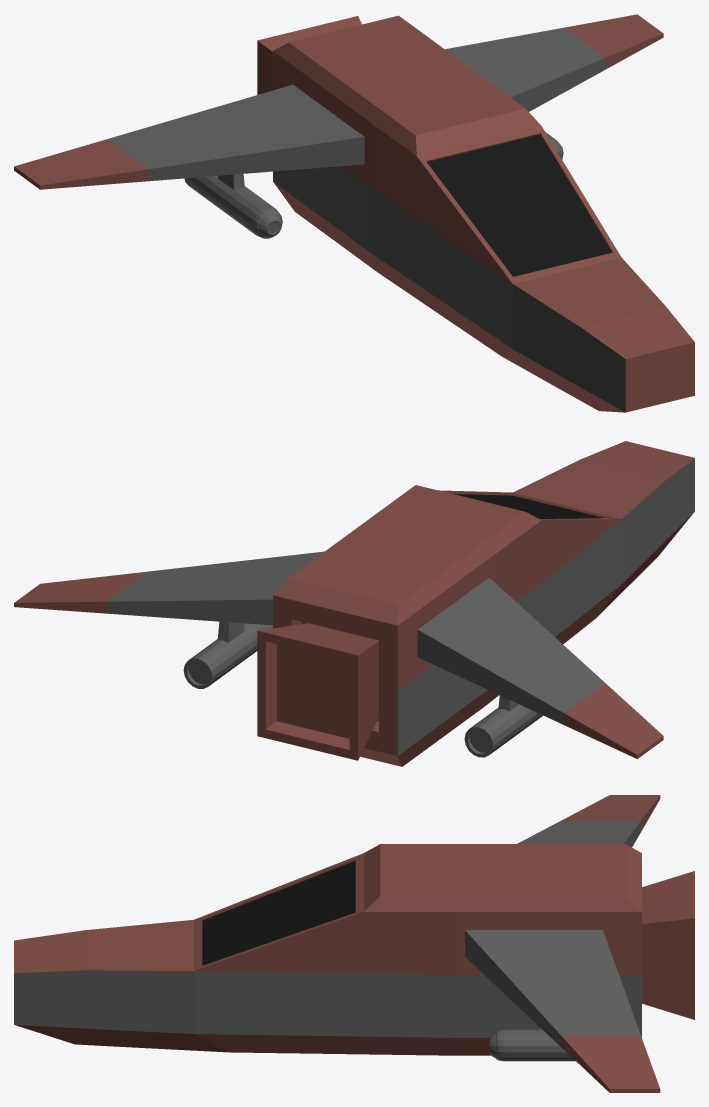
The model's file is spaceship444.gltf.
3 renders of one model, top to bottom at view 1: azimuth 30°, elevation 25°; view 2: azimuth 150°, elevation 25°; view 3: azimuth 270°, elevation 25°, orthographic. The views are drawn at different scales.
Visible parts, largest first — view 1: Cube, Cube.002, Cube.003, Cube.001, Cylinder; view 2: Cube, Cube.002, Cube.003, Cylinder, Cube.001; view 3: Cube, Cube.003, Cube.002, Cube.001, Cylinder.
Boxes of the visible parts, x1,y1,x2,y2 form: Cube: (14, 14, 694, 412); Cube.002: (107, 27, 605, 181); Cube.003: (273, 166, 625, 412); Cube.001: (427, 135, 611, 276); Cylinder: (184, 132, 563, 238); Cube: (14, 441, 694, 766); Cube.002: (107, 551, 604, 724); Cube.003: (397, 458, 694, 755); Cylinder: (183, 621, 542, 757); Cube.001: (453, 494, 603, 518); Cube: (14, 795, 694, 1092); Cube.003: (14, 970, 641, 1037); Cube.002: (465, 820, 640, 1046); Cube.001: (202, 860, 355, 965); Cylinder: (489, 1029, 575, 1061).
Size of the model in its own units: 10 by 2.55 by 9.8.
